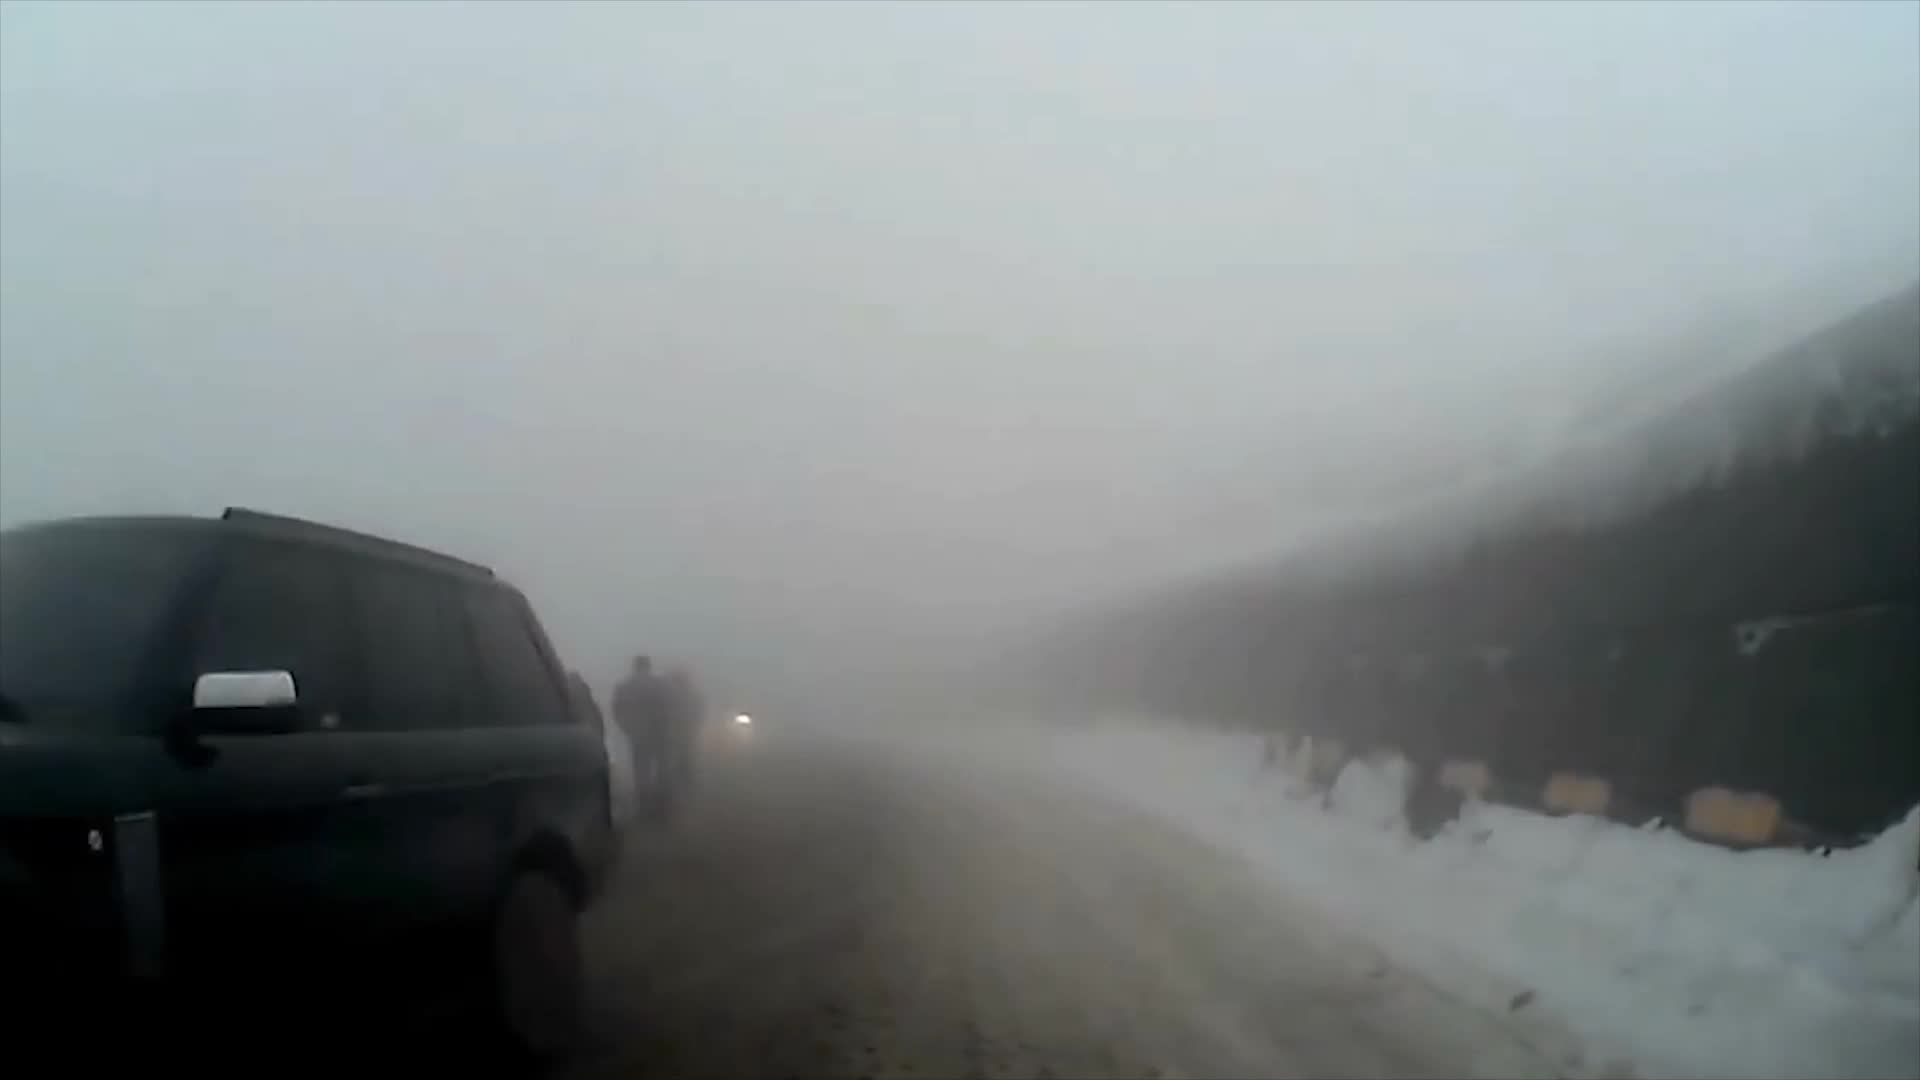pedestrian: (533, 671, 609, 840)
vehicle: (0, 506, 624, 1080)
